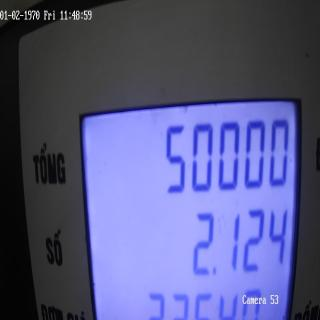screen: (74, 84, 306, 320)
